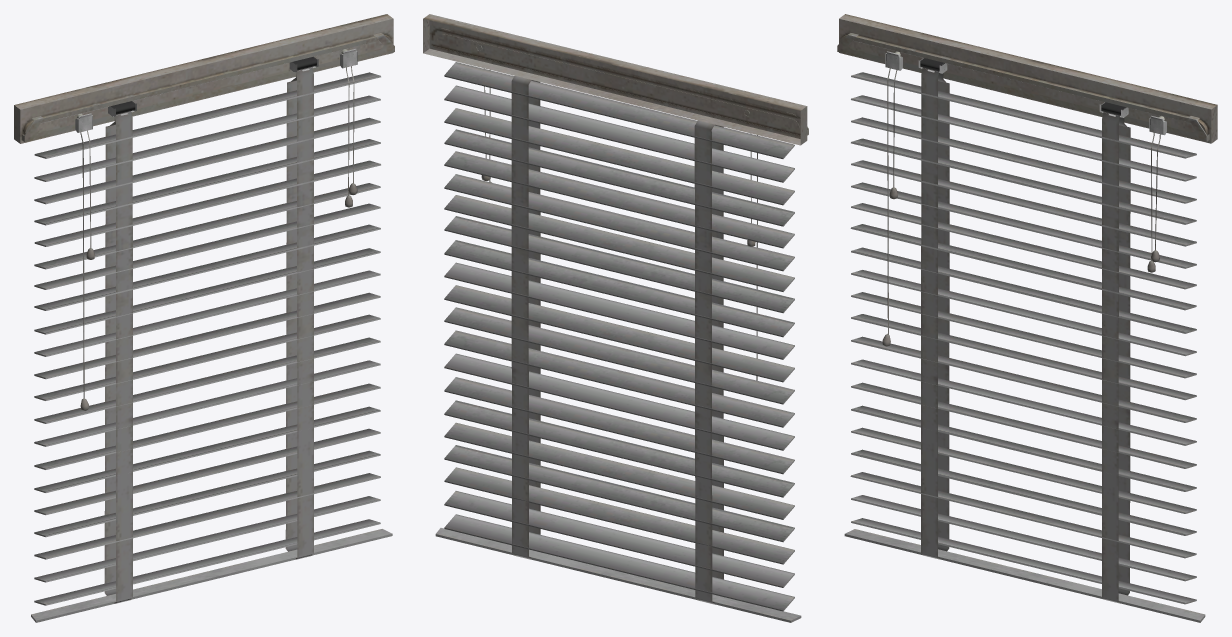
File: 220_OfficeBlind.fbx
3 views of the same model, side by side, from view 1: azimuth 30°, elevation 25°; view 2: azimuth 150°, elevation 25°; view 3: azimuth 330°, elevation 25° (orthographic).
Visible parts, largest first — view 1: LOD_1_Group_0_Sub_1__sm30_192_OfficeBlind03A_A_Mat; view 2: LOD_1_Group_0_Sub_1__sm30_192_OfficeBlind03A_A_Mat; view 3: LOD_1_Group_0_Sub_1__sm30_192_OfficeBlind03A_A_Mat.
Boxes of the visible parts, box(x1,y1,x2,y2) form: LOD_1_Group_0_Sub_1__sm30_192_OfficeBlind03A_A_Mat: box(14, 14, 394, 622); LOD_1_Group_0_Sub_1__sm30_192_OfficeBlind03A_A_Mat: box(423, 14, 808, 622); LOD_1_Group_0_Sub_1__sm30_192_OfficeBlind03A_A_Mat: box(837, 14, 1217, 622).
Bounding box in the file's own units: 1.16 × 1.52 × 0.0907.
